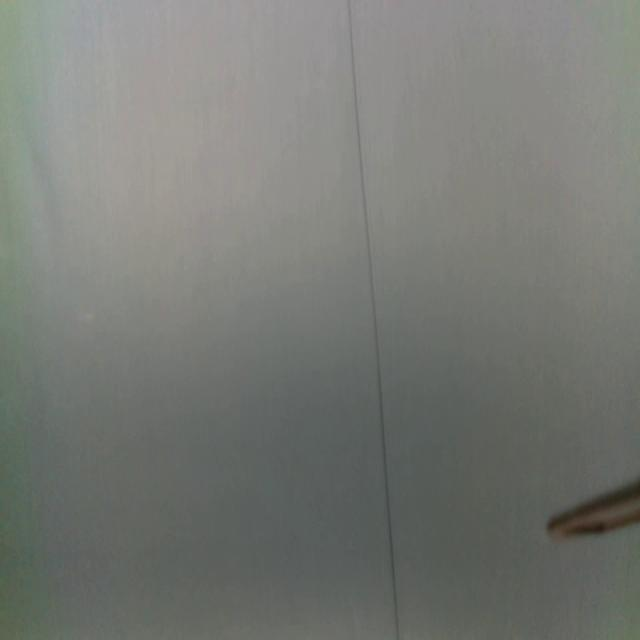crease: (346, 0, 400, 640)
